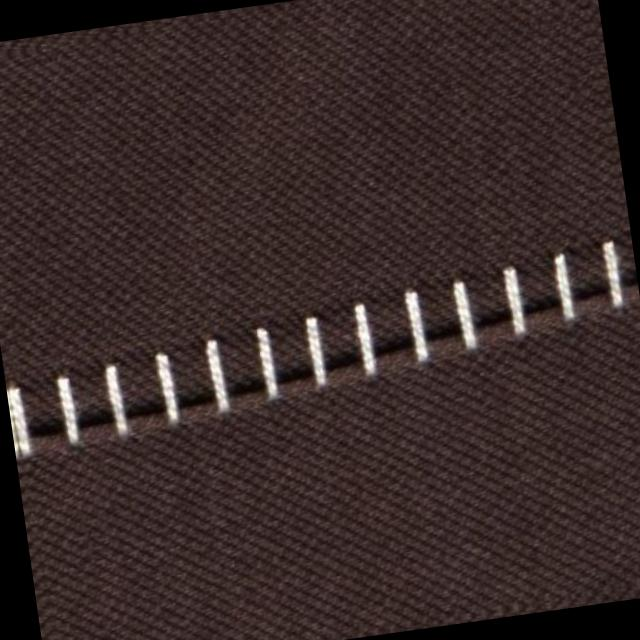gray stitch: (0, 235, 640, 461)
